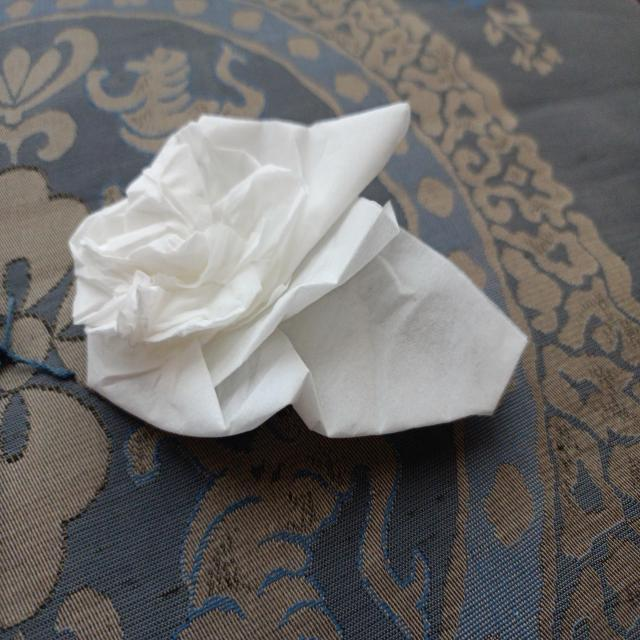Paper: (61, 104, 543, 458)
